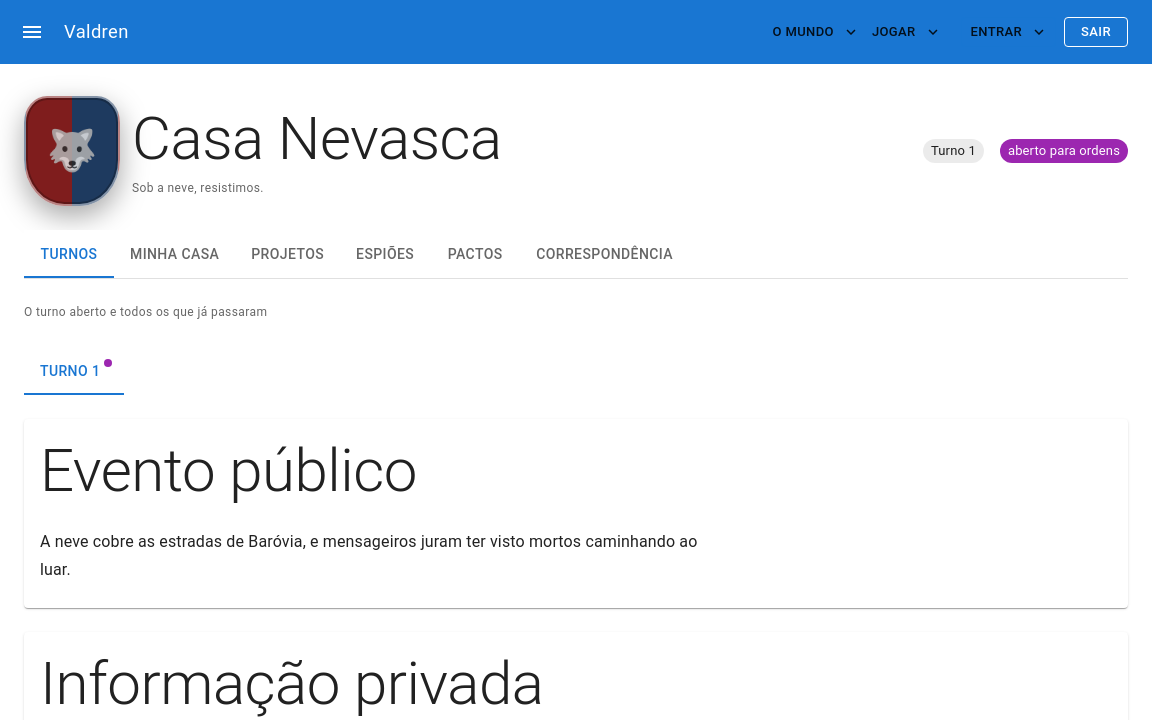
Scenario: GamePage › mostra um chip por ativo da Casa
What coordinates should you click on to do the following:
click the tab "Minha Casa"
I would click on:
 (175, 254)
Its box is top-left (114, 230), bottom-right (235, 278).
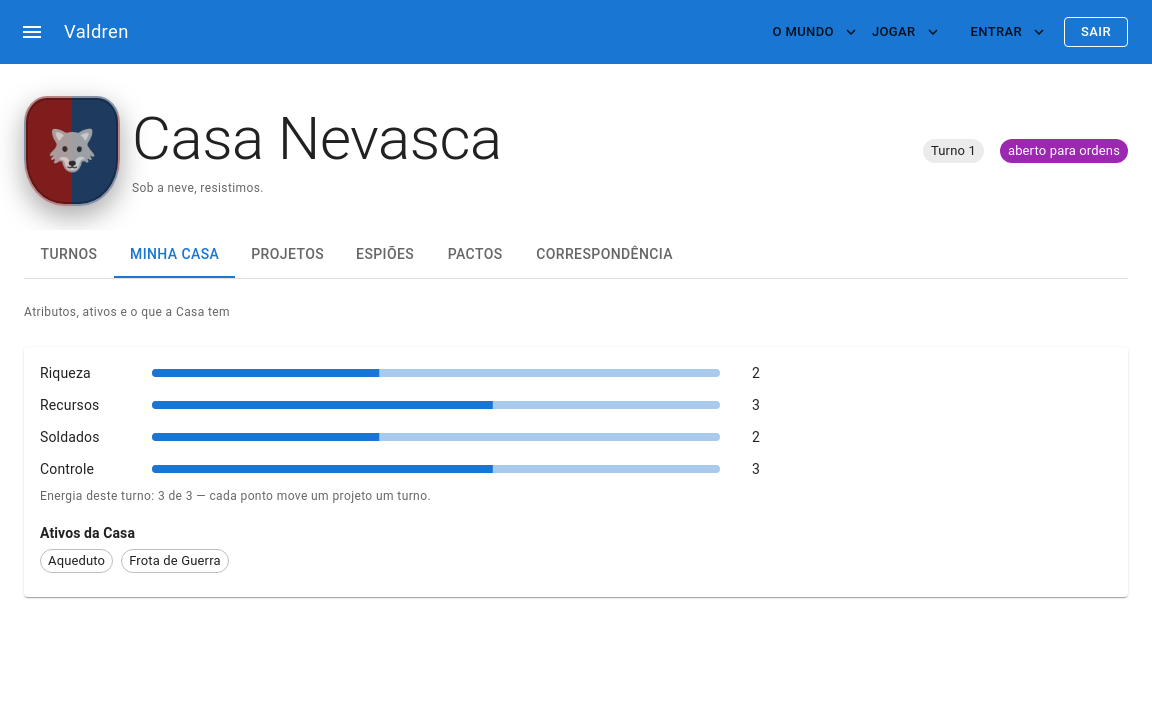
Check: the text "Aqueduto" is shown, box top-left (48, 554), bottom-right (105, 568)
Check: the text "Frota de Guerra" is shown, box top-left (122, 552), bottom-right (228, 571)
